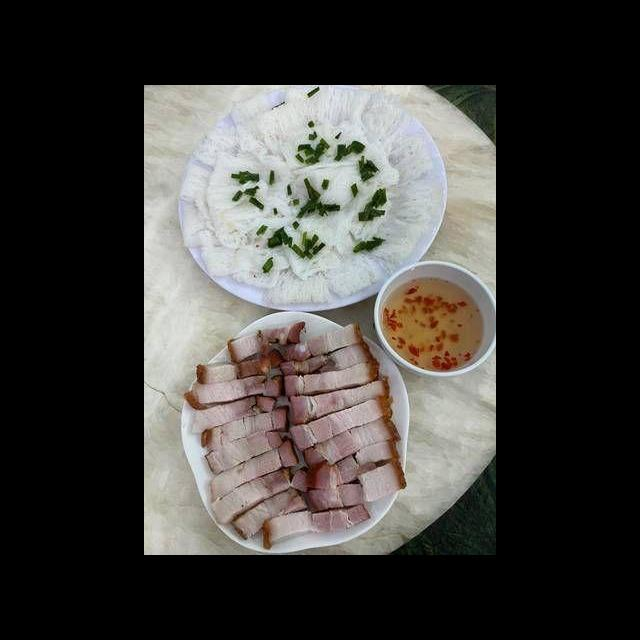banh hoi: (270, 165, 395, 281), (280, 116, 404, 216), (180, 195, 297, 293), (197, 147, 305, 252), (350, 177, 445, 278), (259, 228, 377, 309), (176, 121, 272, 211), (231, 96, 329, 178), (279, 86, 375, 141), (368, 129, 437, 191), (355, 90, 411, 157)
banh hoi heo quay: (168, 104, 496, 555)
thit heo quay: (273, 318, 411, 516), (179, 346, 317, 542), (258, 499, 375, 551), (224, 318, 308, 367)
